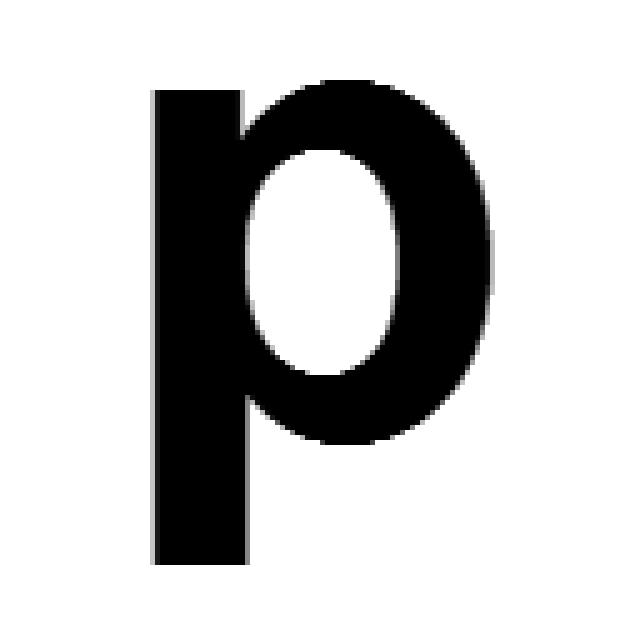P: (150, 80, 485, 570)
